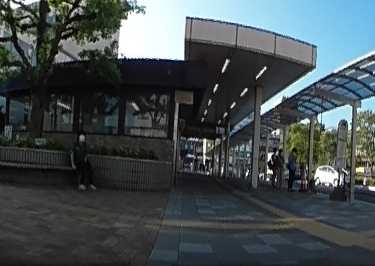person: (72, 128, 97, 191), (288, 146, 298, 188), (275, 146, 286, 182), (269, 150, 275, 188)
